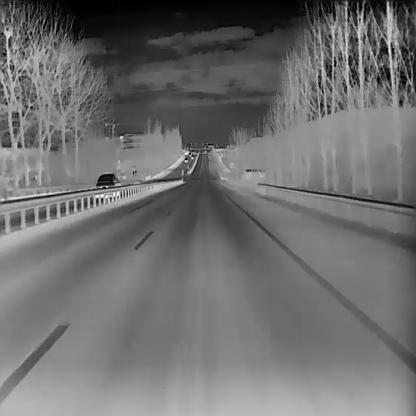car: (95, 172, 119, 188)
